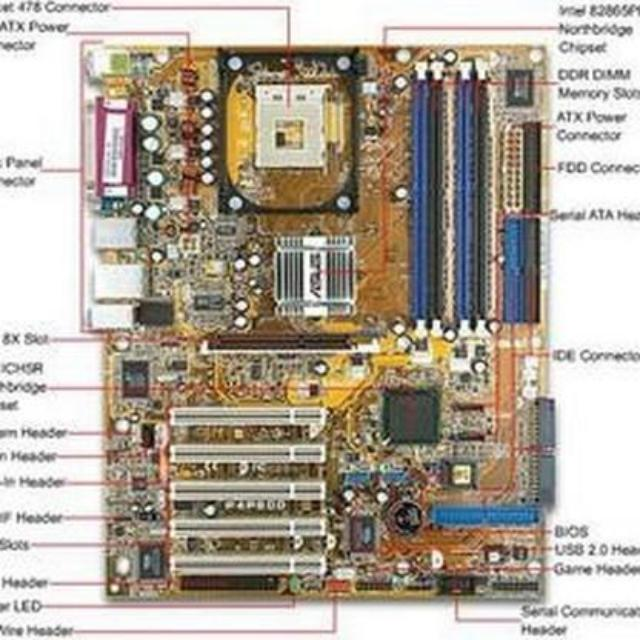Mainboard: (81, 36, 559, 604)
